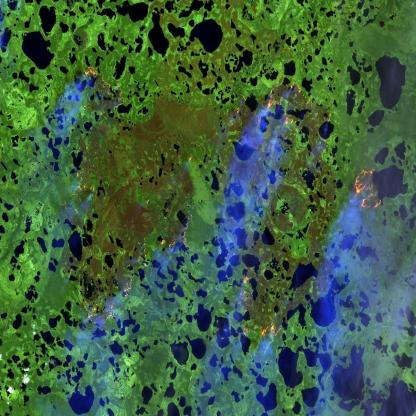fire: (59, 183, 216, 346), (232, 257, 290, 341), (255, 65, 319, 134), (76, 62, 127, 112), (350, 157, 386, 220)
